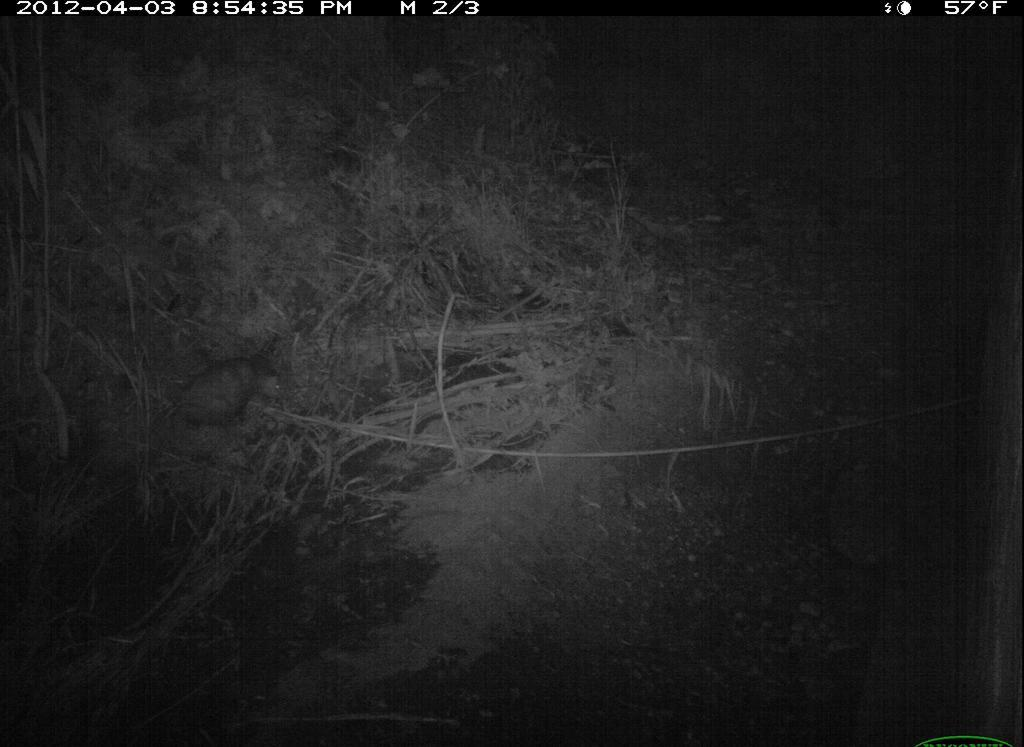opossum: (135, 336, 296, 457)
